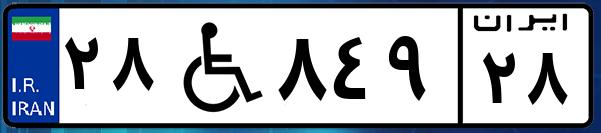2: (57, 26, 110, 100), (475, 38, 525, 113)
4: (330, 28, 385, 110)
8: (270, 28, 330, 110), (525, 38, 570, 115), (110, 28, 158, 98)
9: (385, 28, 445, 110)
ژ (معلولین و جانبازان): (158, 12, 270, 120)
